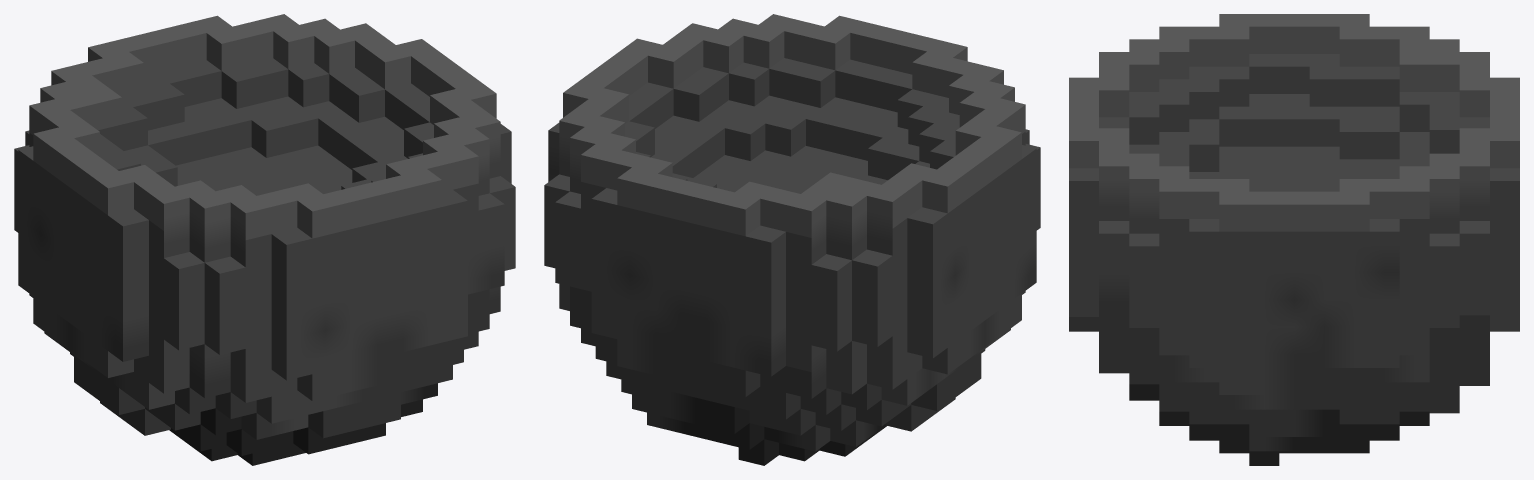
The model's file is cookingpot.fbx.
The picture shows the model from 3 angles, left to right: view 1: azimuth 30°, elevation 25°; view 2: azimuth 150°, elevation 25°; view 3: azimuth 270°, elevation 25°; orthographic projection.
Parts seen in each view (by area): view 1: cookingpot; view 2: cookingpot; view 3: cookingpot.
Part boxes in pixels (box(x1,y1,x2,y2)): cookingpot: box(14, 14, 515, 465); cookingpot: box(544, 14, 1040, 465); cookingpot: box(1069, 14, 1519, 465).
Size of the model in its own units: 15 by 11 by 15.
1 material, 1 textured.
